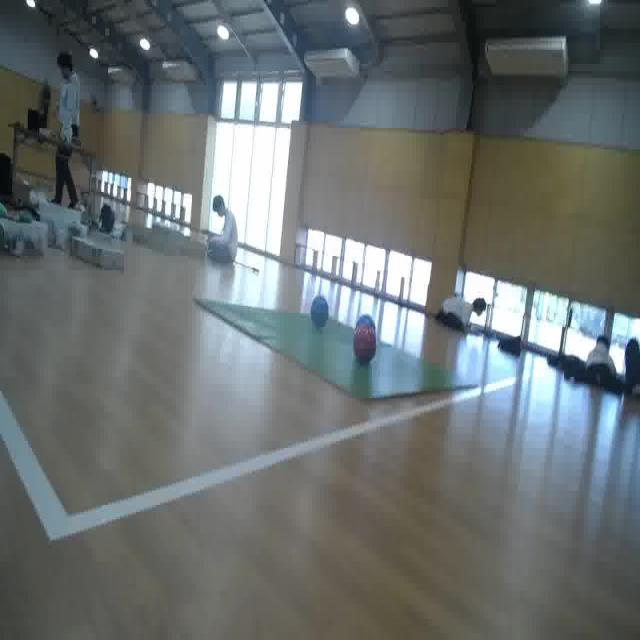blue_ball: (308, 294, 331, 331)
red_ball: (351, 320, 376, 359)
